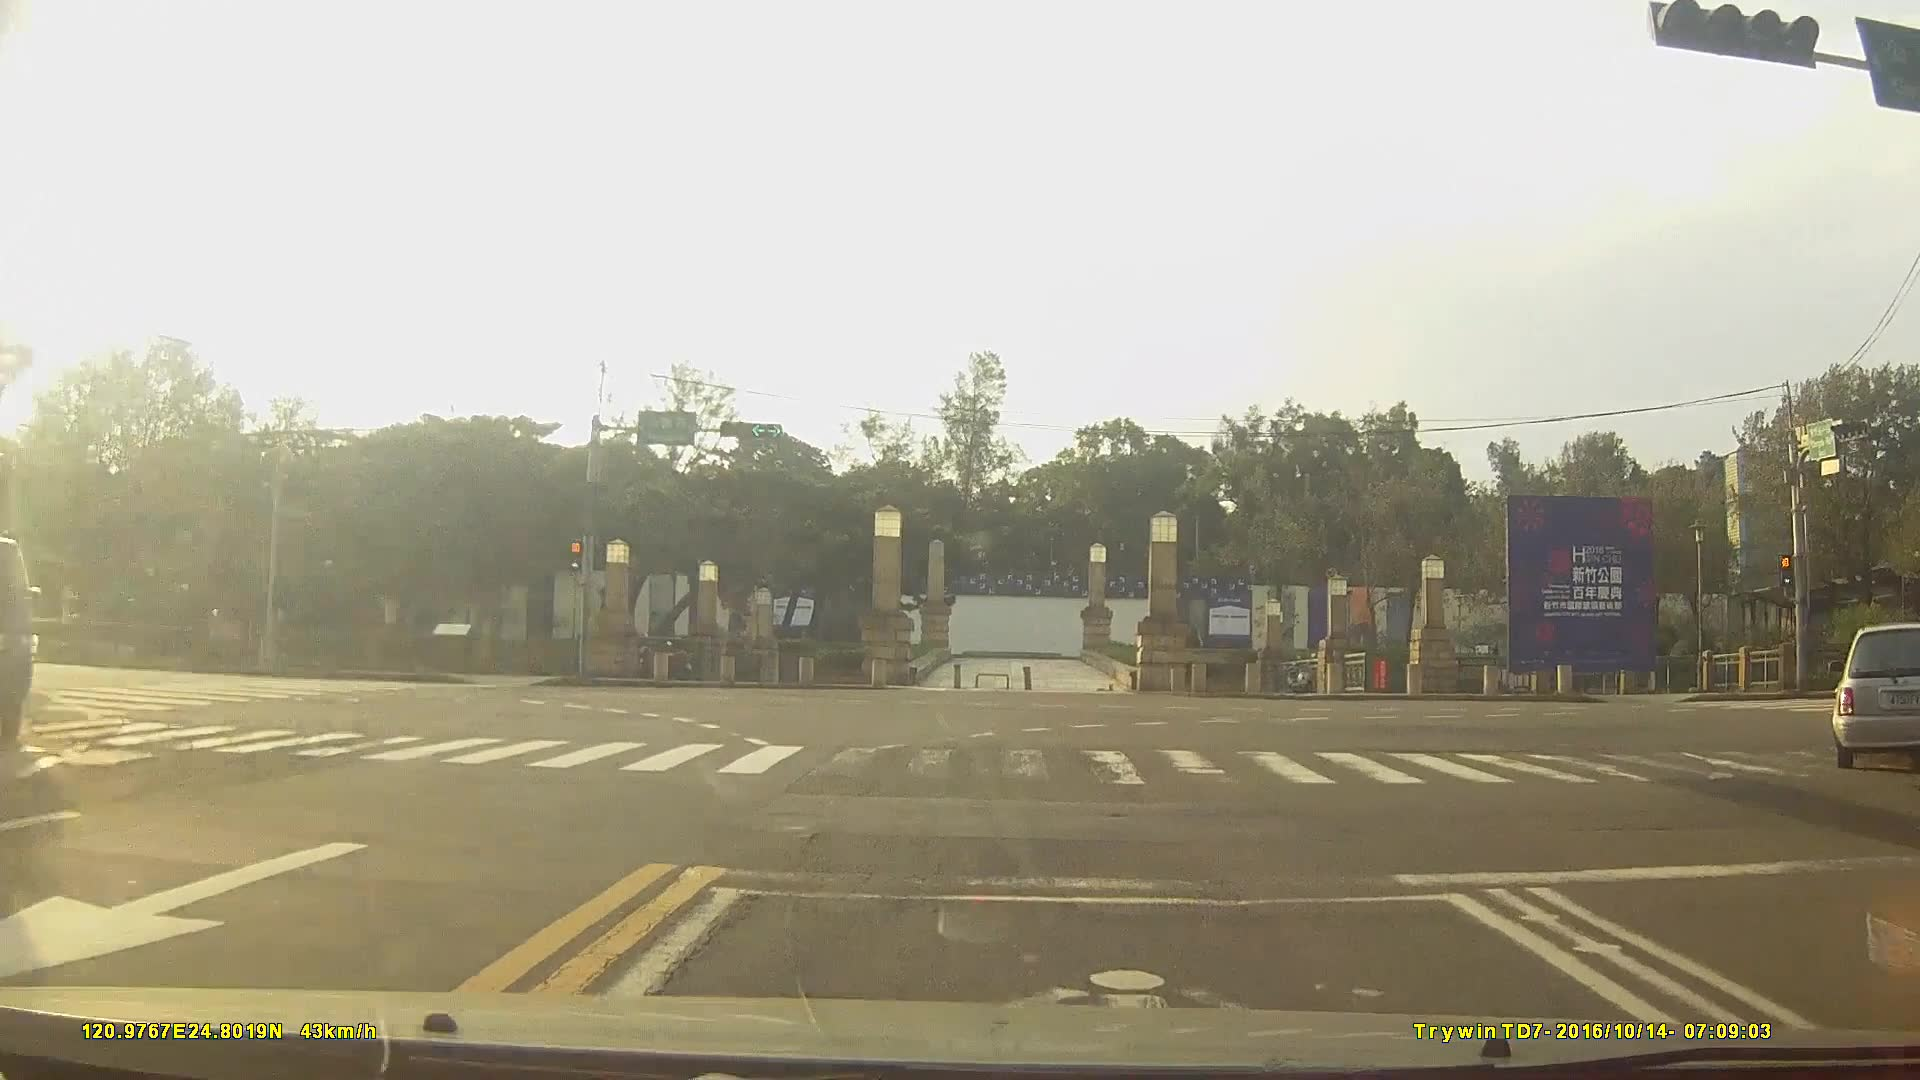vehicle: (1833, 618, 1920, 766)
